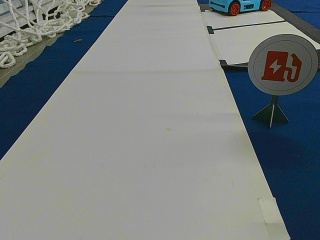battery: (249, 34, 316, 95)
car: (209, 0, 269, 14)
